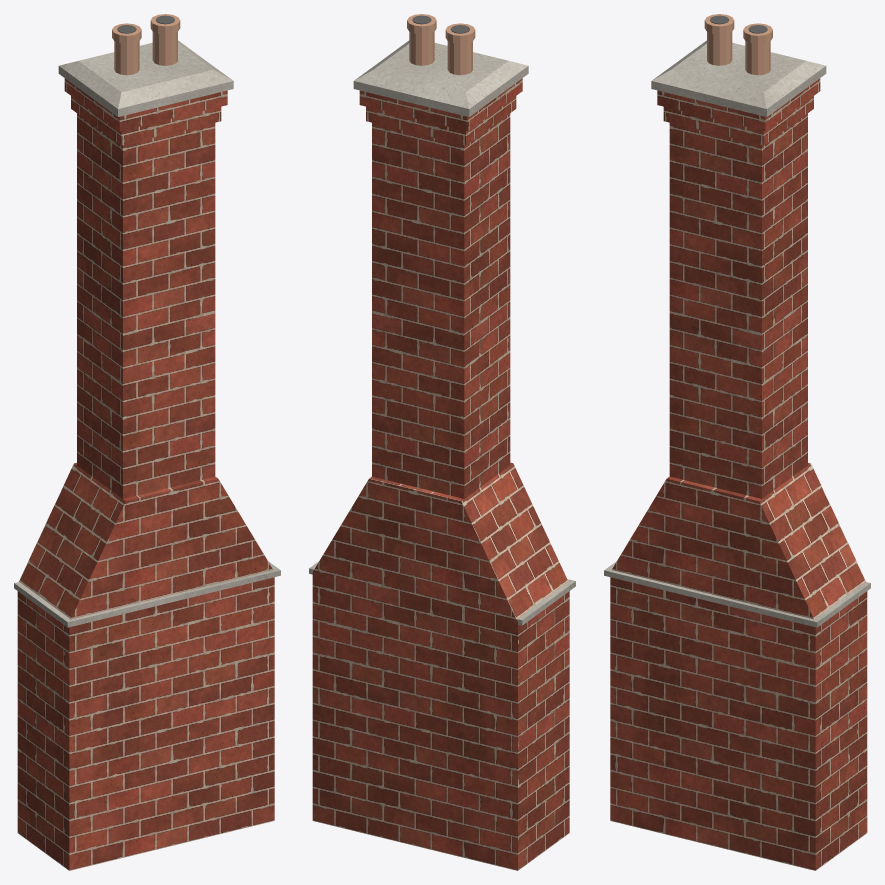
File: chimney.glb
3 renders of one model, left to right at view 1: azimuth 30°, elevation 25°; view 2: azimuth 150°, elevation 25°; view 3: azimuth 330°, elevation 25°, orthographic.
Parts seen in each view (by area): view 1: chimney_brick, chimney_cap, chimney_clay; view 2: chimney_brick, chimney_cap, chimney_clay; view 3: chimney_brick, chimney_cap, chimney_clay.
Part boxes in pixels (box(x1,y1,x2,y2)): chimney_brick: box(17, 78, 274, 870); chimney_cap: box(14, 40, 280, 627); chimney_clay: box(112, 14, 180, 75); chimney_brick: box(312, 78, 569, 870); chimney_cap: box(309, 40, 575, 625); chimney_clay: box(407, 14, 475, 75); chimney_brick: box(610, 78, 867, 870); chimney_cap: box(604, 40, 870, 627); chimney_clay: box(704, 14, 772, 75).
Size of the model in its own units: 1.66 by 5.97 by 0.8.
Materials: 4 (2 with a texture image).
